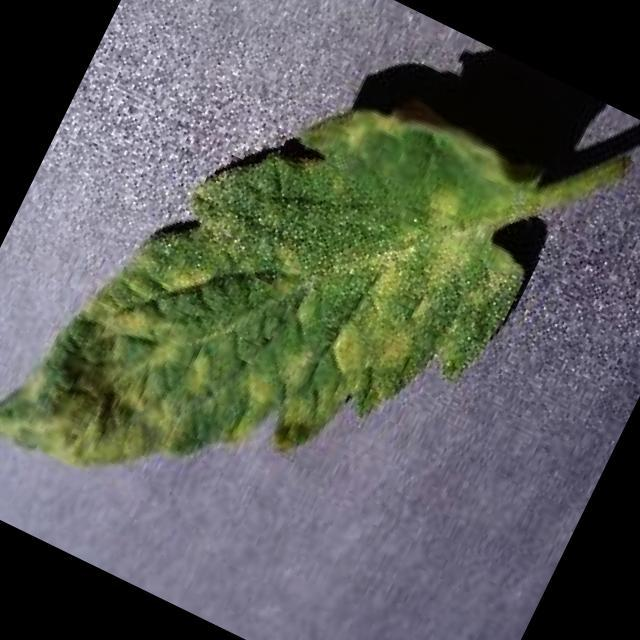Tomato mold leaf: (0, 0, 573, 628)
